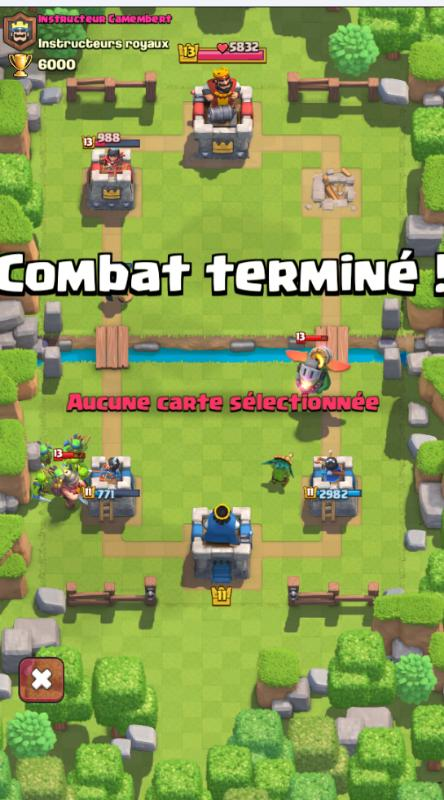gobelin: (76, 457, 101, 500), (28, 468, 52, 509)
gobelin_lances: (58, 426, 95, 465), (31, 436, 58, 470)
